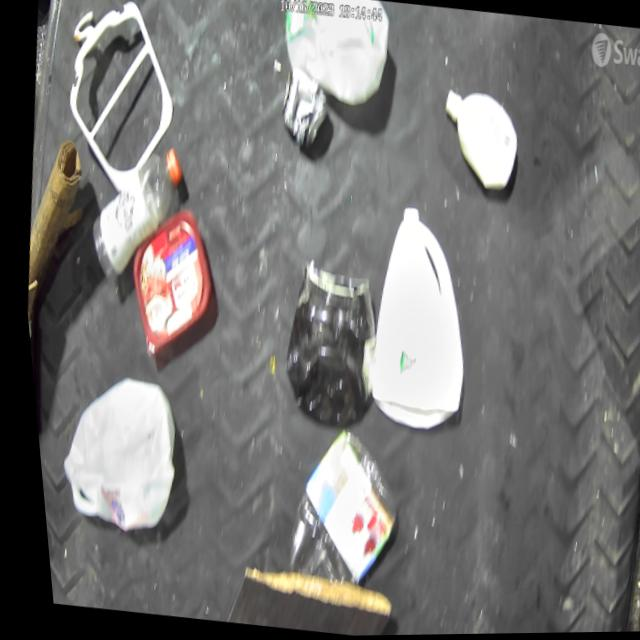can: (272, 64, 331, 149)
milk_jug: (346, 200, 479, 436), (40, 370, 180, 536), (271, 0, 395, 108)
non_white_jug: (263, 258, 382, 431)
plastic_bottle: (267, 423, 401, 585), (74, 137, 187, 283)
